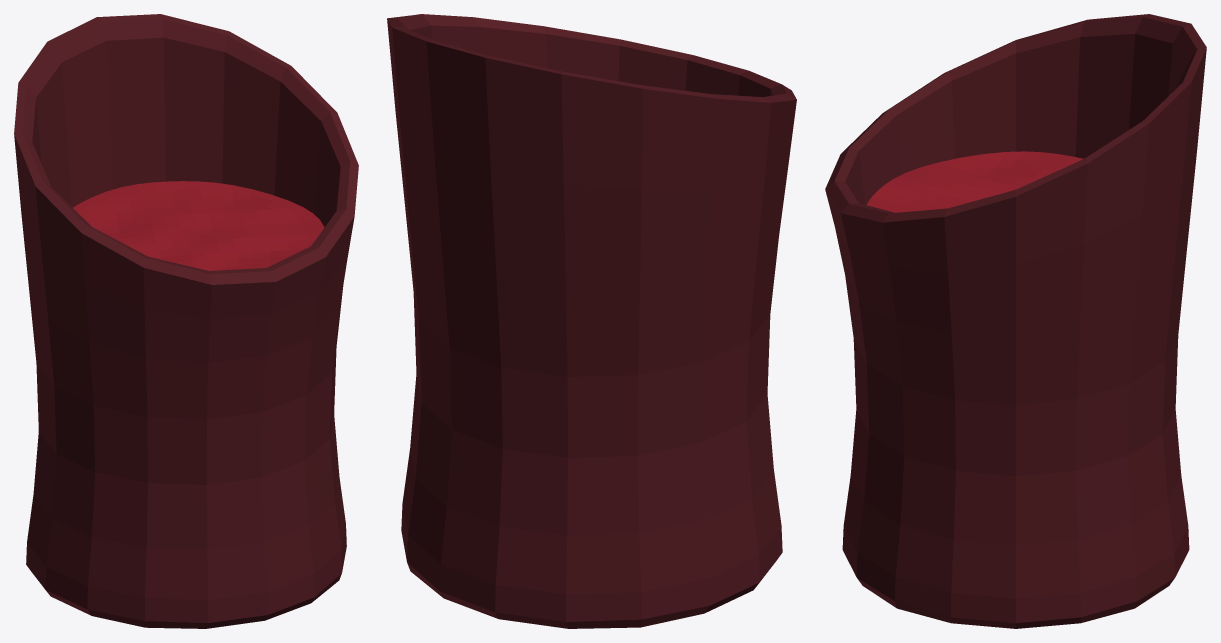
Rendered from PaintBucket_v2.glb.
3 views of the same model, side by side, from view 1: azimuth 30°, elevation 25°; view 2: azimuth 150°, elevation 25°; view 3: azimuth 270°, elevation 25° (orthographic). The views are drawn at different scales.
Visible parts, largest first — view 1: PaintBucket_v2; view 2: PaintBucket_v2; view 3: PaintBucket_v2.
Boxes of the visible parts, x1=… form: PaintBucket_v2: x1=14, y1=14, x2=358, y2=628; PaintBucket_v2: x1=387, y1=14, x2=796, y2=628; PaintBucket_v2: x1=825, y1=14, x2=1206, y2=628.
Bounding box in the file's own units: 0.136 × 0.207 × 0.14.
